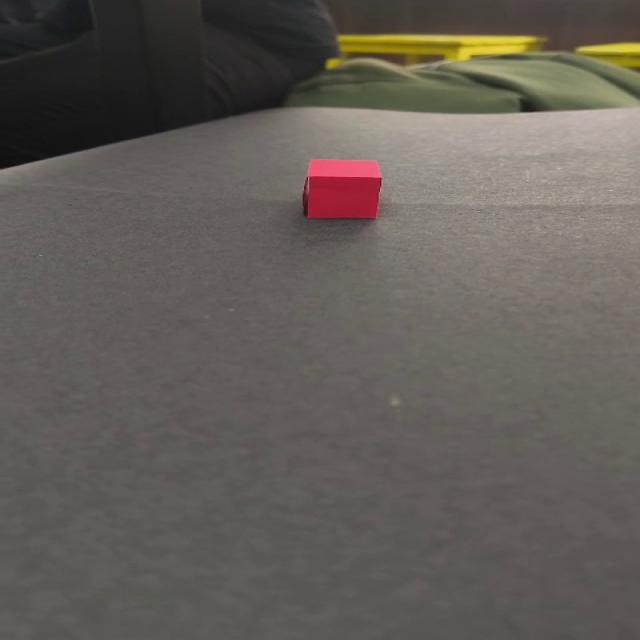red block: (301, 158, 383, 219)
